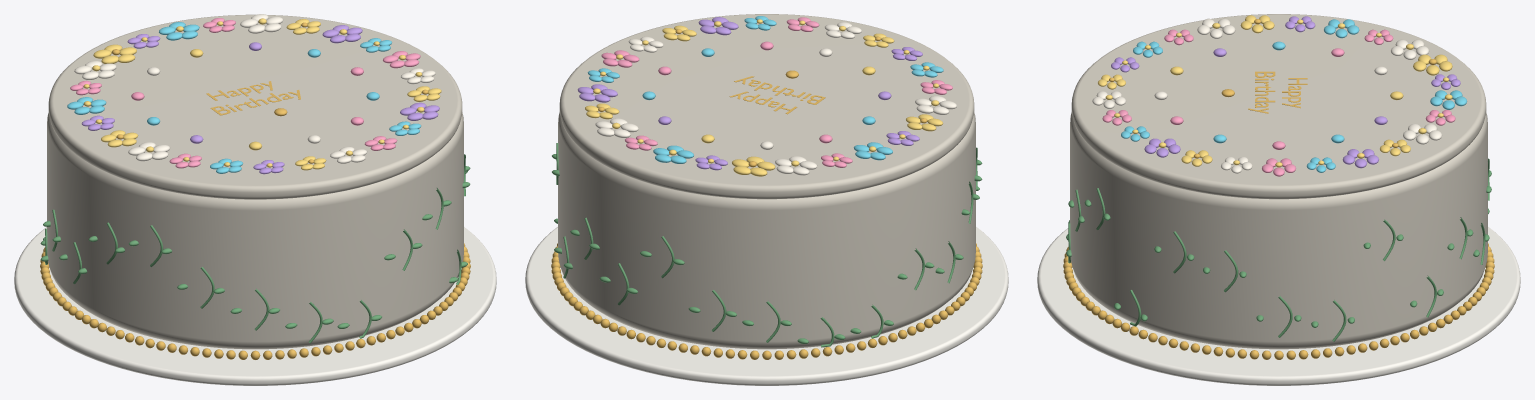
File: birthday.glb
3 renders of one model, left to right at view 1: azimuth 30°, elevation 25°; view 2: azimuth 150°, elevation 25°; view 3: azimuth 270°, elevation 25°, orthographic.
Parts seen in each view (by area): view 1: HERO_PastelFloralBirthdayCake, Smooth_ivory_top_frosting, White_cake_board, Birthday_gold_lettering_line_2; view 2: HERO_PastelFloralBirthdayCake, Smooth_ivory_top_frosting, White_cake_board, Birthday_gold_lettering_line_2; view 3: HERO_PastelFloralBirthdayCake, Smooth_ivory_top_frosting, White_cake_board, Birthday_gold_lettering_line_2.
Part boxes in pixels (x1,y1,x2,y2): HERO_PastelFloralBirthdayCake: (47,113,463,349); Smooth_ivory_top_frosting: (48,14,462,199); White_cake_board: (14,227,496,385); Birthday_gold_lettering_line_2: (210,90,300,115); HERO_PastelFloralBirthdayCake: (558,111,975,349); Smooth_ivory_top_frosting: (559,14,974,199); White_cake_board: (525,227,1008,385); Birthday_gold_lettering_line_2: (734,76,825,104); HERO_PastelFloralBirthdayCake: (1070,111,1487,349); Smooth_ivory_top_frosting: (1071,14,1486,199); White_cake_board: (1037,227,1520,385); Birthday_gold_lettering_line_2: (1248,71,1275,113).
Size of what is drawn, in the model's own units: 3.24 by 1.44 by 3.24.
